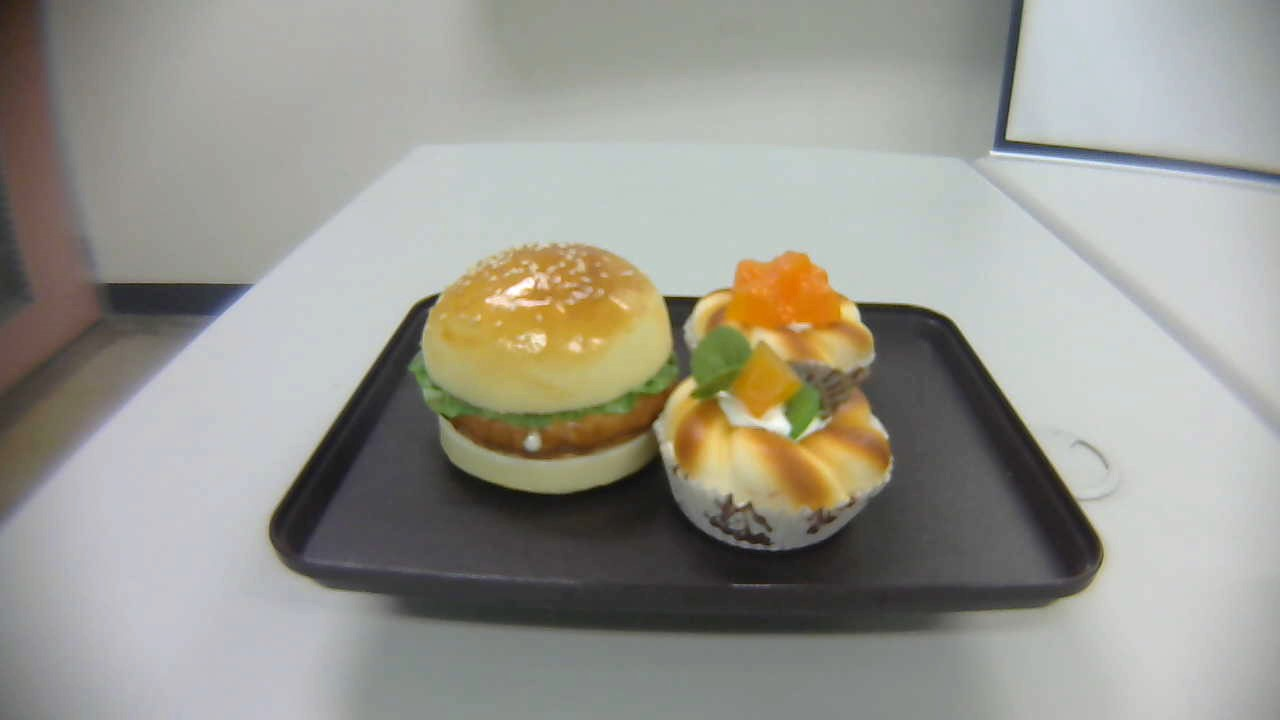fruit tart: (656, 329, 895, 556)
hamburger: (415, 238, 677, 497)
mango tart: (682, 249, 874, 393)
